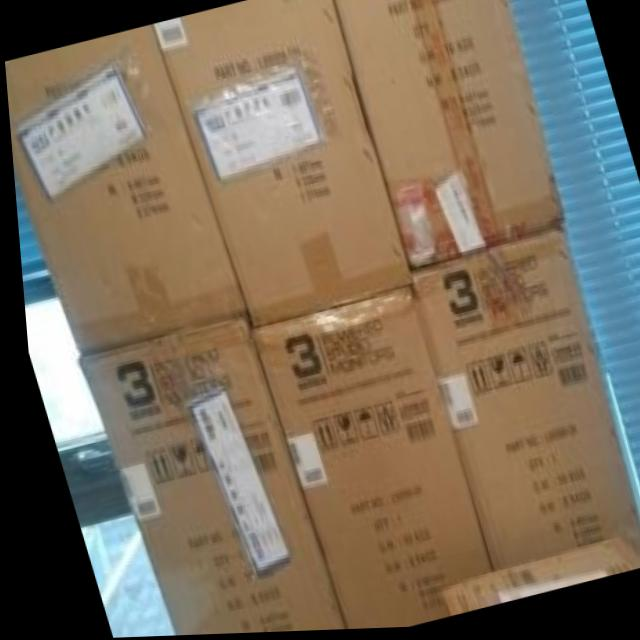box: (72, 314, 333, 636), (150, 0, 408, 325), (244, 287, 484, 632), (4, 25, 241, 359), (402, 231, 632, 575), (332, 0, 561, 271), (427, 543, 637, 616)
